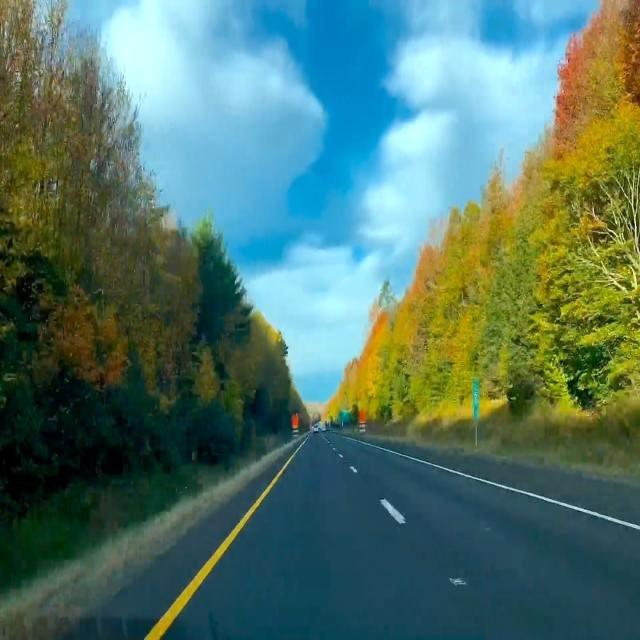lane: (144, 438, 307, 639), (344, 437, 640, 531), (380, 499, 405, 524)
road: (164, 432, 639, 639), (10, 459, 283, 639), (371, 440, 639, 525)
